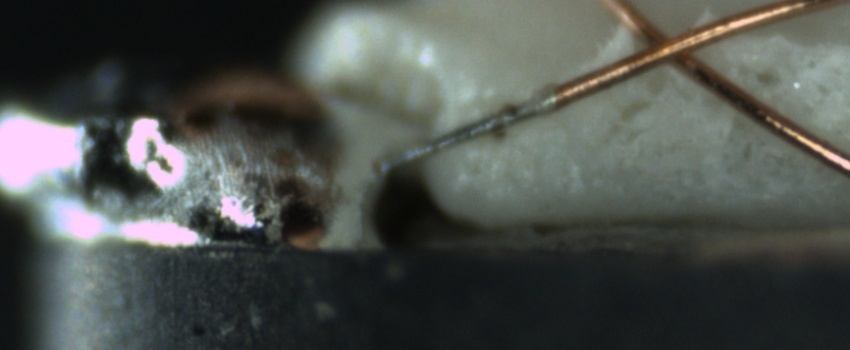CL: (620, 13, 719, 80)
TS: (378, 89, 558, 173)
TTCW: (380, 66, 614, 175)
